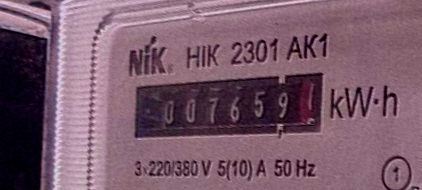0: (161, 96, 177, 125), (183, 96, 198, 124)
1: (302, 81, 317, 113)
5: (249, 88, 267, 121)
6: (227, 93, 243, 125)
7: (204, 92, 221, 126)
9: (273, 87, 292, 123)
screen: (116, 47, 346, 164)
